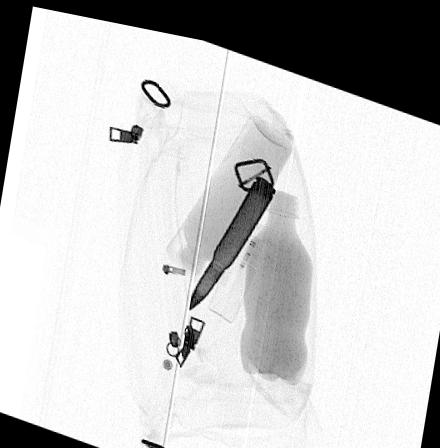Bullet: (188, 163, 278, 301)
